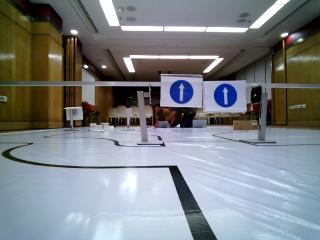straight: (160, 74, 202, 110), (205, 82, 245, 111)
